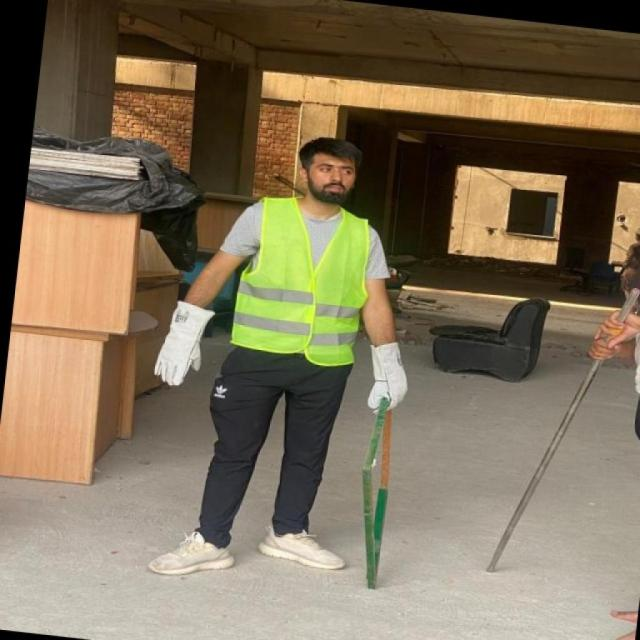Gloves-Detection: (145, 294, 205, 389), (365, 342, 414, 401)
